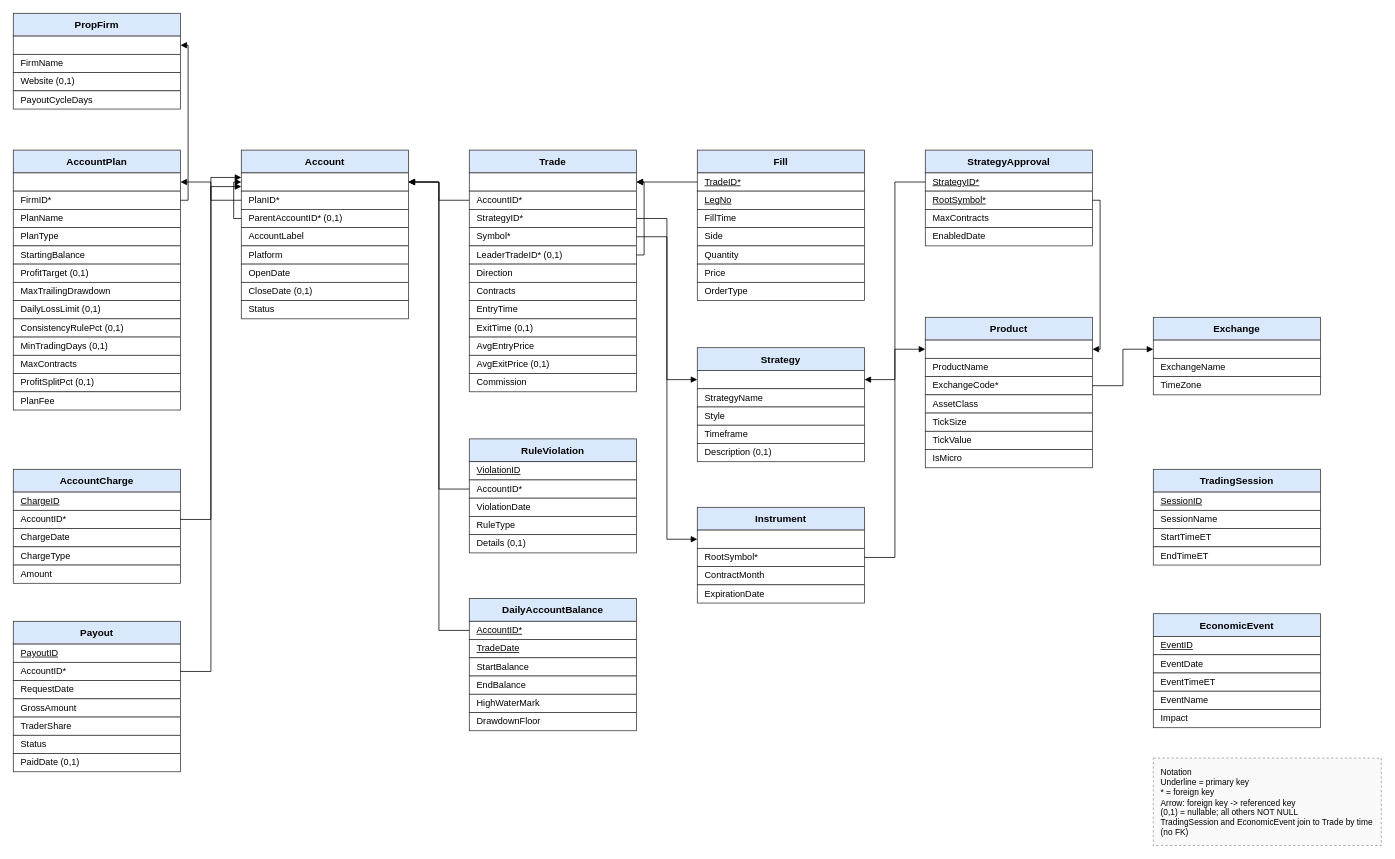
The diagram is 1395 pixels wide and 859 high, and some of its shapes have lost their labels. Each missing label, with the centre of its shape:
"AccountID" belongs at [324,181].
"ExchangeCode" belongs at [1236,348].
"FirmID" belongs at [96,44].
"PlanID" belongs at [96,181].
"RootSymbol" belongs at [1008,348].
"StrategyID" belongs at [780,379].
"Symbol" belongs at [780,538].
"TradeID" belongs at [552,181].
